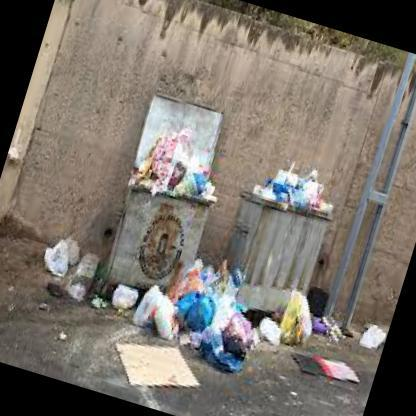Garbage: (124, 281, 256, 373), (169, 256, 249, 372), (131, 127, 227, 204), (249, 154, 342, 222), (274, 289, 322, 353), (35, 232, 77, 284), (252, 306, 295, 352)
